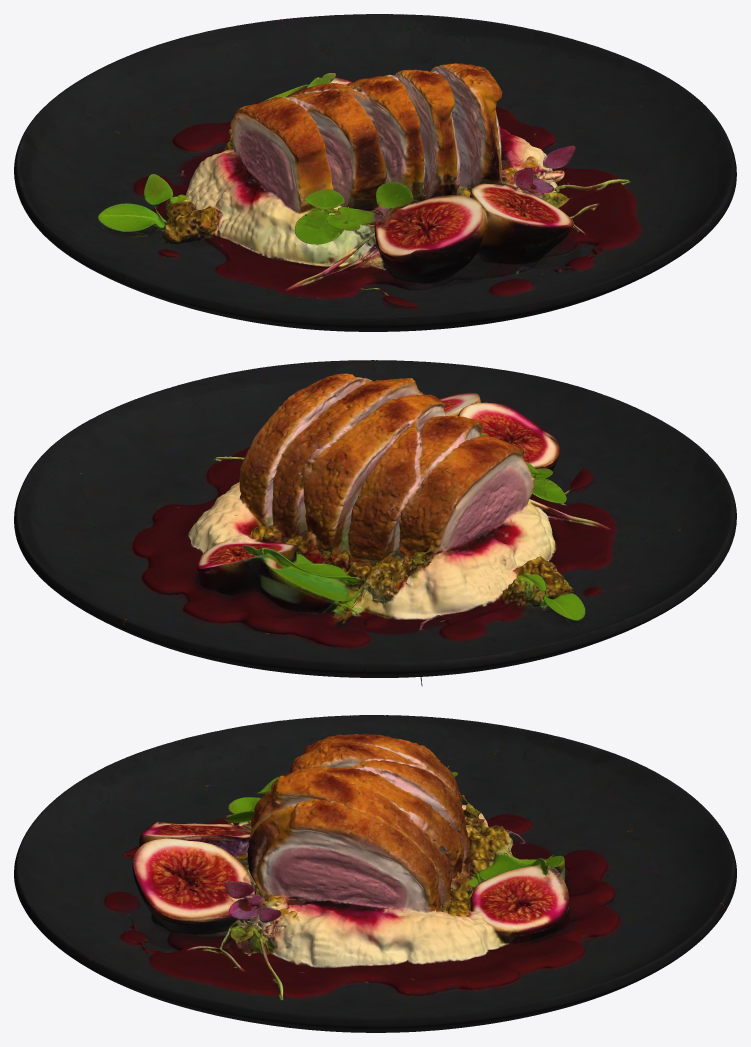
Rendered from canette-aux-figues-meshy.glb.
3 views of the same model, one above another, from view 1: azimuth 30°, elevation 25°; view 2: azimuth 150°, elevation 25°; view 3: azimuth 270°, elevation 25° (orthographic).
Size of the model in its own units: 1.9 by 0.5066 by 1.9.
Materials: 1 (1 with a texture image).
